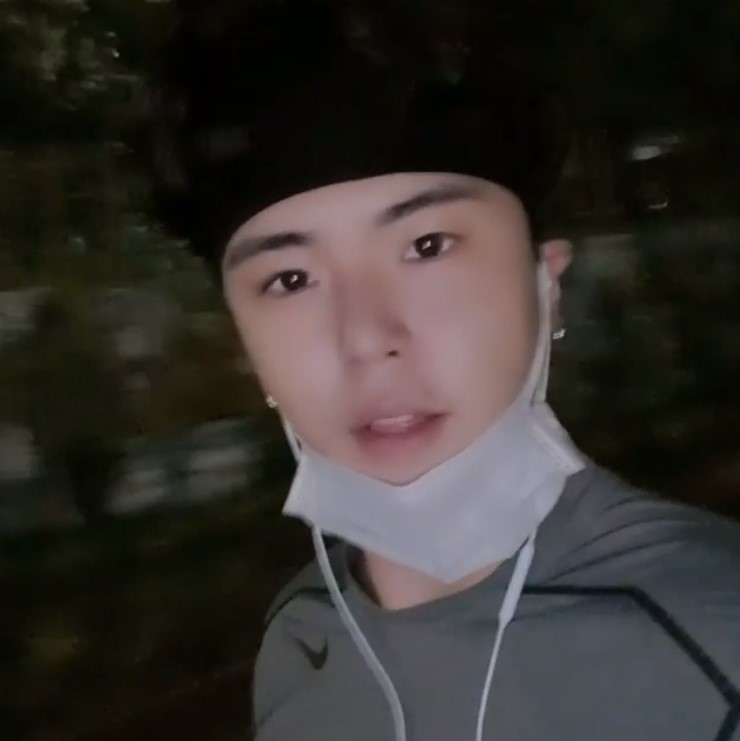face_no_mask: (218, 98, 577, 580)
